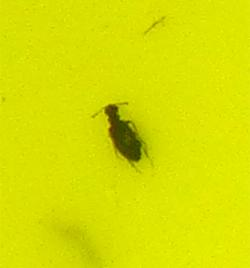Coleoptera: (100, 100, 150, 168)
